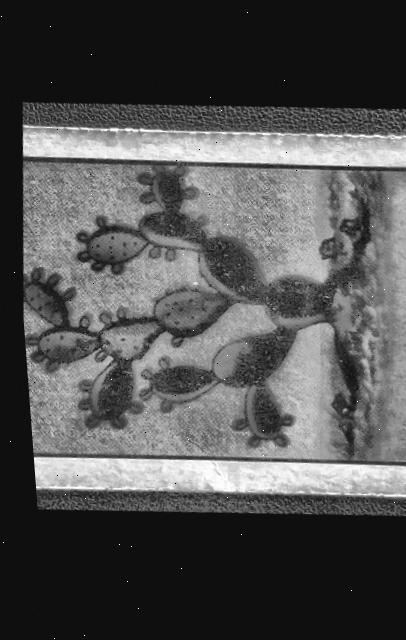El Nopal: (8, 124, 406, 495)
